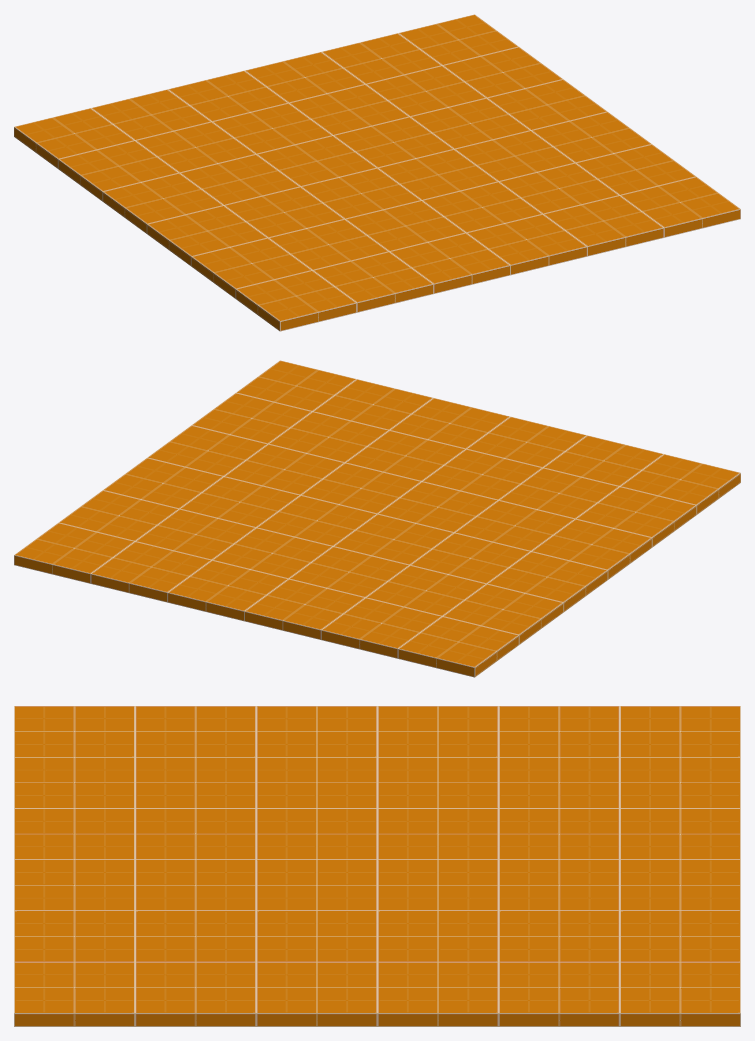
The model's file is Plate8_6x6.obj.
3 renders of one model, top to bottom at view 1: azimuth 30°, elevation 25°; view 2: azimuth 150°, elevation 25°; view 3: azimuth 270°, elevation 25°, orthographic. The views are drawn at different scales.
Visible parts, largest first — view 1: Plate8_6x6_Cube.396; view 2: Plate8_6x6_Cube.396; view 3: Plate8_6x6_Cube.396.
Boxes of the visible parts, x1=… form: Plate8_6x6_Cube.396: x1=14, y1=14, x2=740, y2=331; Plate8_6x6_Cube.396: x1=14, y1=360, x2=740, y2=677; Plate8_6x6_Cube.396: x1=14, y1=706, x2=740, y2=1026.
Bounding box in the file's own units: 6 × 0.125 × 6.
Materials: 1 (1 with a texture image).
